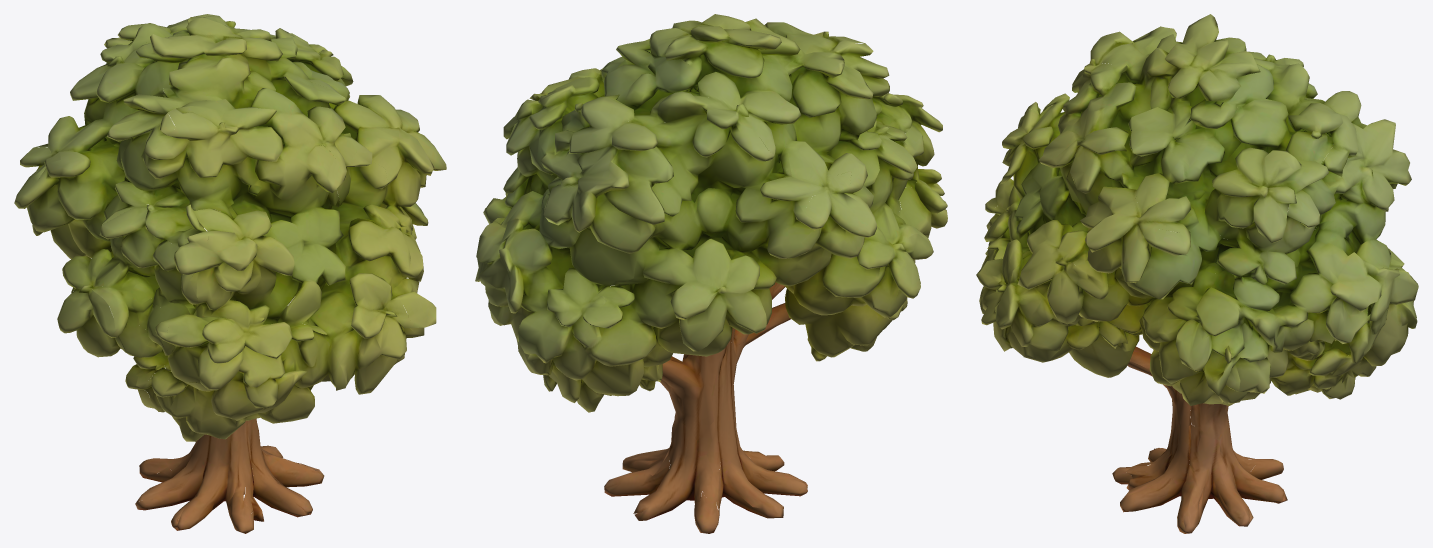
Rendered from tree.glb.
The picture shows the model from 3 angles, left to right: view 1: azimuth 30°, elevation 25°; view 2: azimuth 150°, elevation 25°; view 3: azimuth 270°, elevation 25°; orthographic projection. The views are drawn at different scales.
Parts seen in each view (by area): view 1: tripo_node_1806ad2b-5518-48eb-b349-f9c044d7eadf; view 2: tripo_node_1806ad2b-5518-48eb-b349-f9c044d7eadf; view 3: tripo_node_1806ad2b-5518-48eb-b349-f9c044d7eadf.
Boxes of the visible parts, <box> form: tripo_node_1806ad2b-5518-48eb-b349-f9c044d7eadf: <box>14,14,446,533</box>; tripo_node_1806ad2b-5518-48eb-b349-f9c044d7eadf: <box>475,14,947,533</box>; tripo_node_1806ad2b-5518-48eb-b349-f9c044d7eadf: <box>976,14,1418,533</box>.
Size of the model in its own units: 0.8485 by 0.982 by 0.8783.
Materials: 1 (1 with a texture image).
